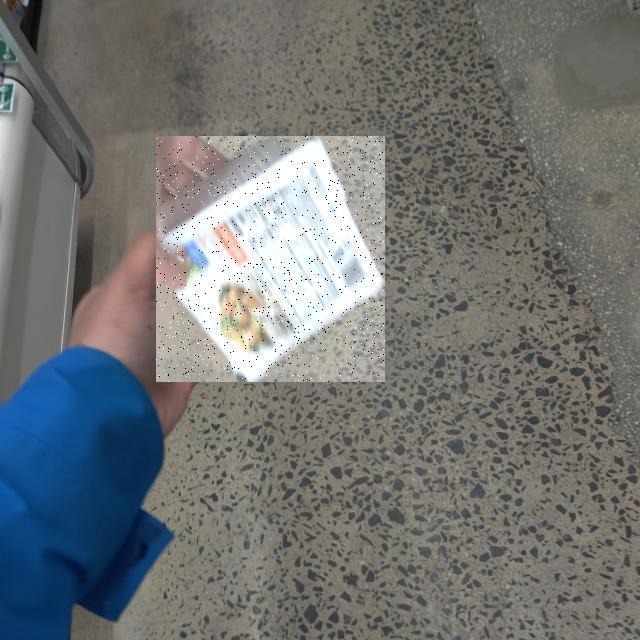Tofu: (156, 136, 385, 382)
